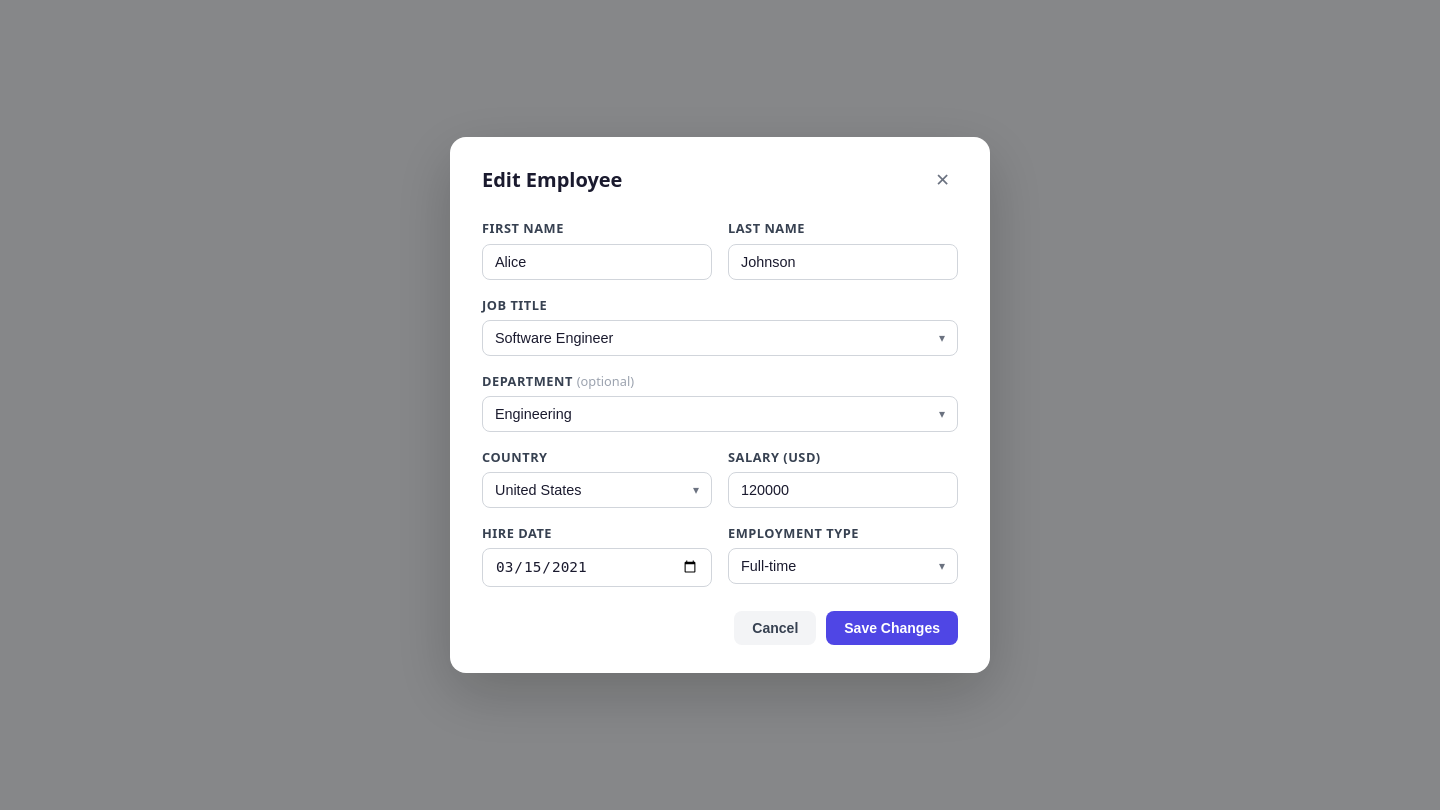
Test: AddEmployeeModal – edit mode › submission › shows an error message when updateEmployee rejects
Click the button "Save Changes": (892, 628) [826,611,958,645]
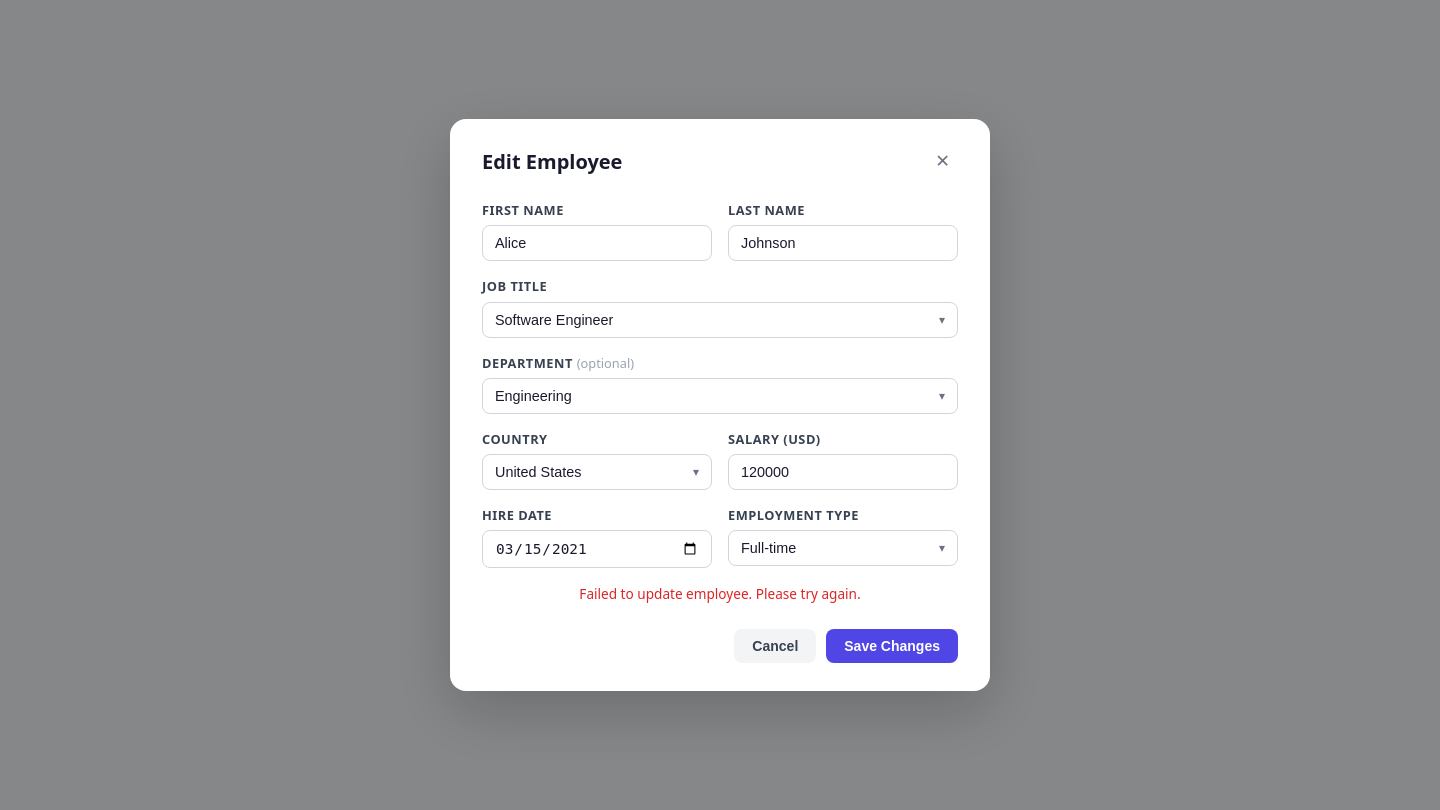
Now the text "Failed to update employee. Please try again." is shown, box [579,584,861,604]
